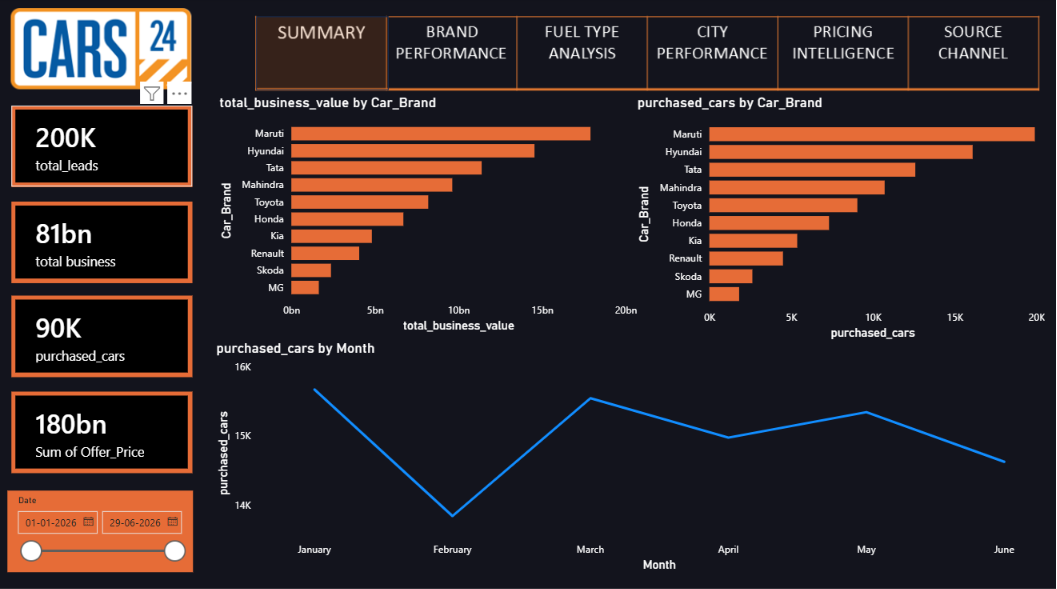

This screenshot's page, from the dashboard's own definition file:
{"tool":"powerbi","page":{"name":"summary","canvas":[1280,720],"ordinal":0},"visuals":[{"type":"barChart","fields":{"Category":["Cars24_Realistic_Dataset_FULL_c.Car_Brand"],"Y":["Cars24_Realistic_Dataset_FULL_c.purchased_cars"]},"box":[771.4,115.7,491.4,297.1],"z":0},{"type":"clusteredBarChart","fields":{"Y":["Cars24_Realistic_Dataset_FULL_c.total_buisness_value"],"Category":["Cars24_Realistic_Dataset_FULL_c.Car_Brand"]},"box":[267.1,115.7,504.3,288.6],"z":1000},{"type":"lineChart","fields":{"Y":["Cars24_Realistic_Dataset_FULL_c.purchased_cars"],"Category":["Cars24_Realistic_Dataset_FULL_c.Date.Variation.Date Hierarchy.Month"]},"box":[262.9,412.9,1017.1,280],"z":2000},{"type":"cardVisual","fields":{"Data":["Cars24_Realistic_Dataset_FULL_c.total_leads"]},"box":[15.7,130,218.6,98.6],"z":3000},{"type":"cardVisual","fields":{"Data":["Sum(Cars24_Realistic_Dataset_FULL_c.Offer_Price)"]},"box":[15.7,475.7,218.6,98.6],"z":4000},{"type":"cardVisual","fields":{"Data":["Cars24_Realistic_Dataset_FULL_c.purchased_cars"]},"box":[15.7,360,218.6,98.6],"z":5000},{"type":"cardVisual","fields":{"Data":["Cars24_Realistic_Dataset_FULL_c.total_buisness_value"]},"box":[15.7,245.7,218.6,98.6],"z":6000},{"type":"slicer","fields":{"Values":["Cars24_Realistic_Dataset_FULL_c.Date"]},"box":[11.4,594.3,222.9,98.6],"z":7000},{"type":"actionButton","box":[470,22.7,154.5,92.7],"z":7002},{"type":"actionButton","box":[624.5,22.7,158.2,92.7],"z":7003},{"type":"actionButton","box":[782.7,22.7,158.2,92.7],"z":7004},{"type":"actionButton","box":[940.9,22.7,158.2,92.7],"z":7005},{"type":"actionButton","box":[1099.1,22.7,158.2,92.7],"z":7006}]}

Visuals, with their boxes in screenshot pixels (x1, y1, x2, y2), scaled from the page's 1280x720 canvas onto the 1057x589 screenshot:
barChart - Cars24_Realistic_Dataset_FULL_c.Car_Brand x Cars24_Realistic_Dataset_FULL_c.purchased_cars: locate(637, 95, 1043, 338)
clusteredBarChart - Cars24_Realistic_Dataset_FULL_c.total_buisness_value x Cars24_Realistic_Dataset_FULL_c.Car_Brand: locate(221, 95, 637, 331)
lineChart - Cars24_Realistic_Dataset_FULL_c.purchased_cars x Cars24_Realistic_Dataset_FULL_c.Date.Variation.Date Hierarchy.Month: locate(217, 338, 1056, 567)
cardVisual - Cars24_Realistic_Dataset_FULL_c.total_leads: locate(13, 106, 193, 187)
cardVisual - Sum(Cars24_Realistic_Dataset_FULL_c.Offer_Price): locate(13, 389, 193, 470)
cardVisual - Cars24_Realistic_Dataset_FULL_c.purchased_cars: locate(13, 294, 193, 375)
cardVisual - Cars24_Realistic_Dataset_FULL_c.total_buisness_value: locate(13, 201, 193, 282)
slicer - Cars24_Realistic_Dataset_FULL_c.Date: locate(9, 486, 193, 567)
actionButton: locate(388, 19, 516, 94)
actionButton: locate(516, 19, 646, 94)
actionButton: locate(646, 19, 777, 94)
actionButton: locate(777, 19, 908, 94)
actionButton: locate(908, 19, 1038, 94)
